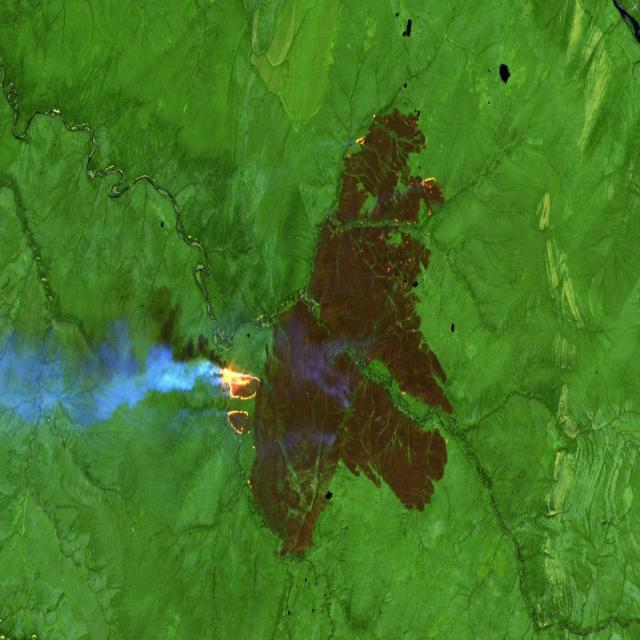fire: (212, 352, 270, 447)
